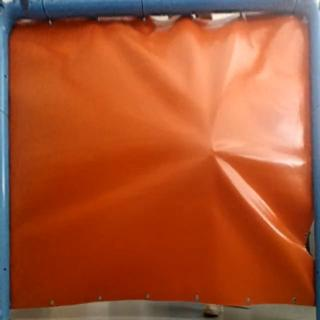Hit-hRxx: (207, 146, 221, 157)
